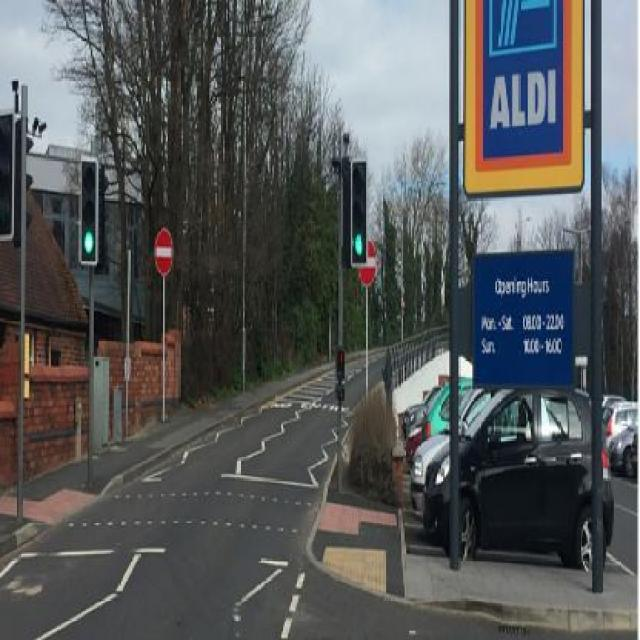traffic_sign: (152, 223, 178, 283)
